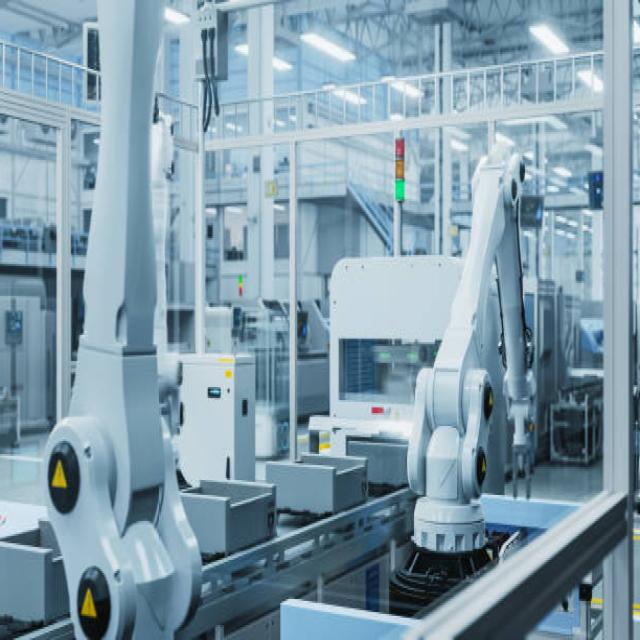Robotic-arm: (39, 0, 208, 640), (406, 130, 548, 562)
